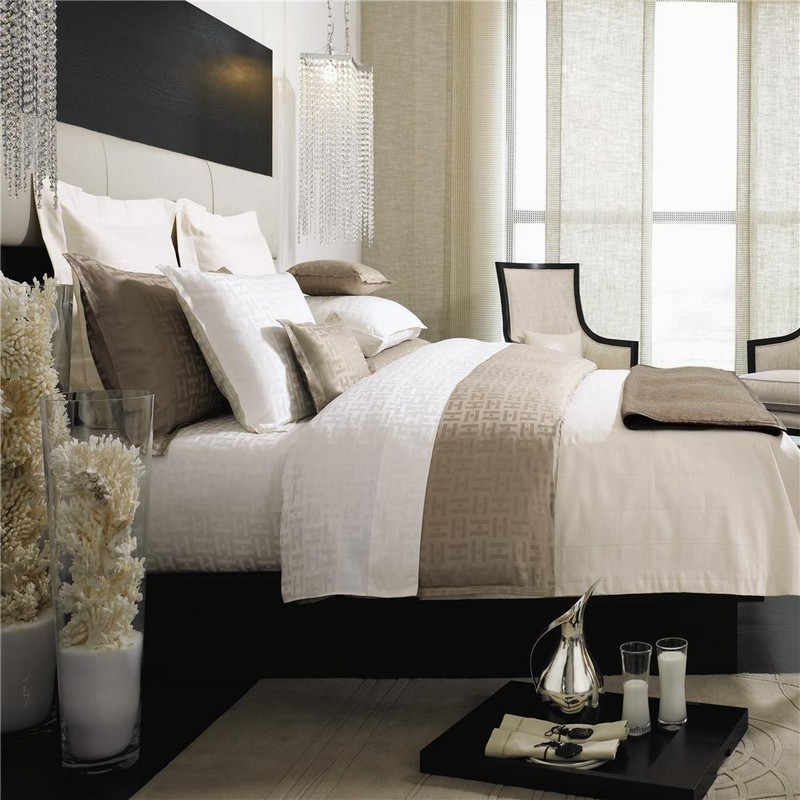bed: (56, 173, 792, 702)
chair: (495, 254, 638, 384), (744, 324, 797, 432)
lamp: (290, 40, 381, 250)
